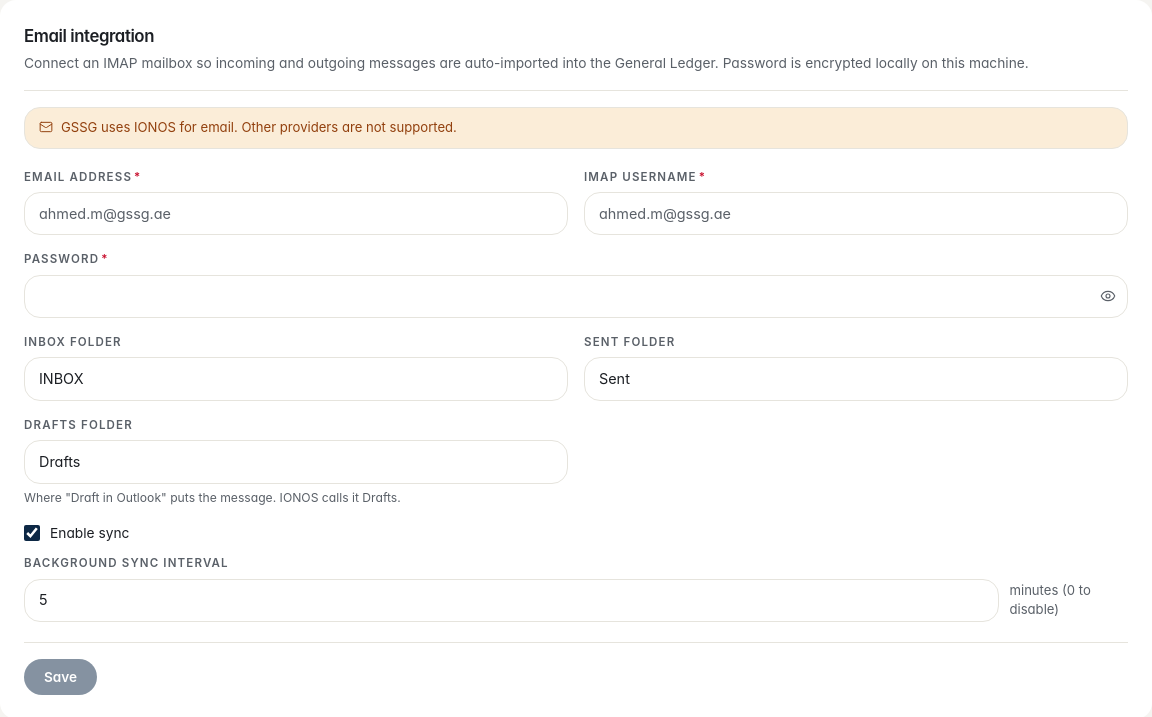
Scenario: EmailSection account form › hydrates untouched fields without overwriting edits made while the account loads
Type "draft@gssg.ae" into the field labelled "Email address*" at point(296, 214), box top-left (24, 192), bottom-right (568, 235)
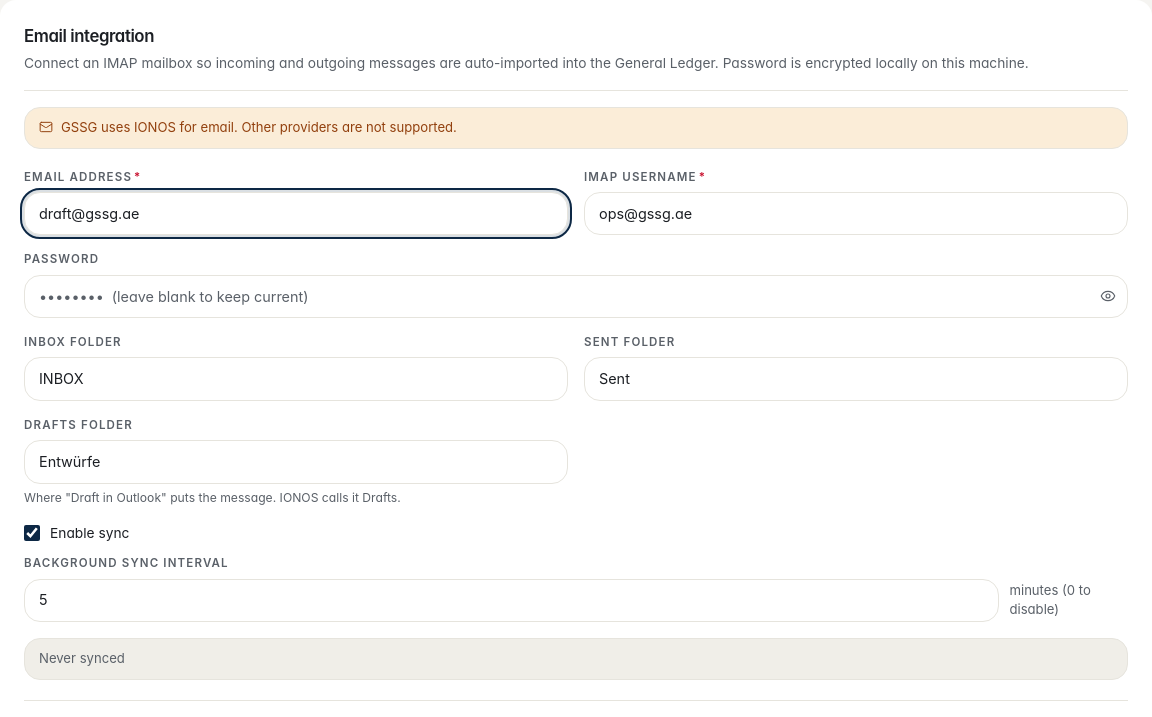
Expected: the field labelled "IMAP username*" holds "ops@gssg.ae", top-left (584, 192), bottom-right (1128, 235)
Expected: the field labelled "Drafts folder" holds "Entwürfe", top-left (24, 440), bottom-right (568, 484)
